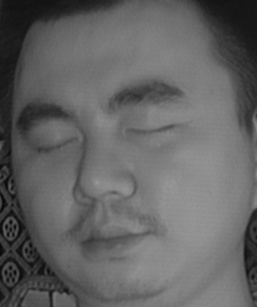blink: (126, 112, 176, 144), (34, 128, 82, 161)
mouth: (72, 210, 158, 265)
